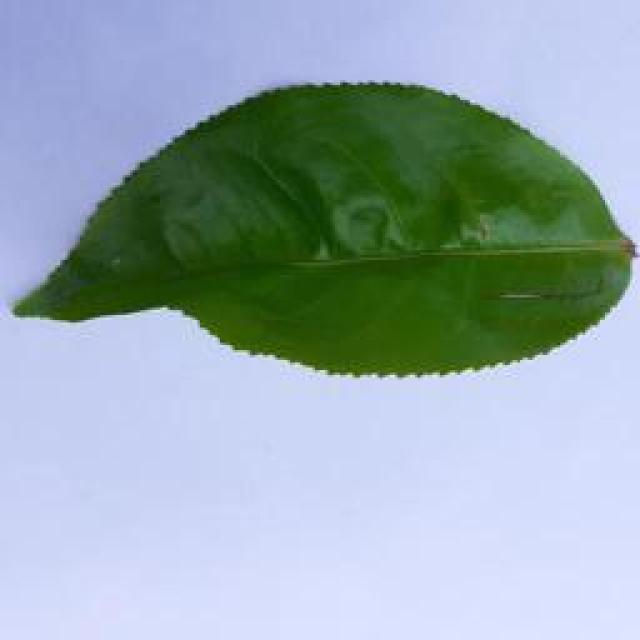Healthy: (0, 82, 634, 390)
